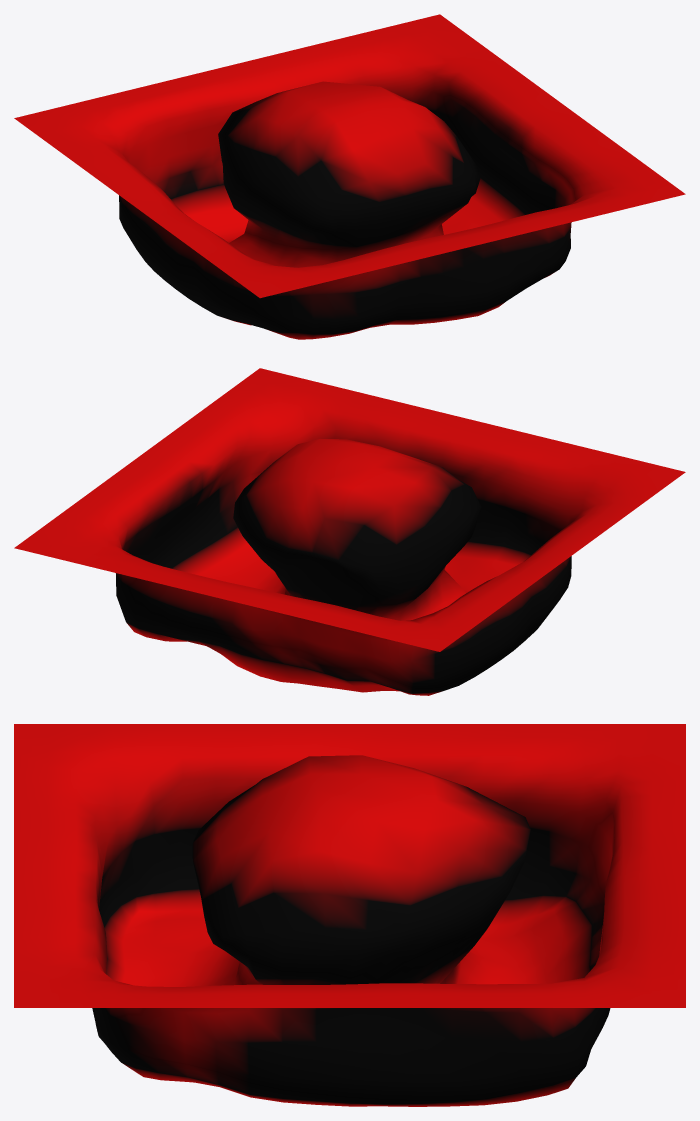
The model's file is GroundBottom01E 2M Foreground.fbx.
3 renders of one model, top to bottom at view 1: azimuth 30°, elevation 25°; view 2: azimuth 150°, elevation 25°; view 3: azimuth 270°, elevation 25°, orthographic. The views are drawn at different scales.
Visible parts, largest first — view 1: GroundBottom01E 2M Foreground; view 2: GroundBottom01E 2M Foreground; view 3: GroundBottom01E 2M Foreground.
Boxes of the visible parts, box(x1,y1,x2,y2) form: GroundBottom01E 2M Foreground: box(14, 14, 685, 339); GroundBottom01E 2M Foreground: box(14, 368, 685, 695); GroundBottom01E 2M Foreground: box(14, 724, 685, 1106).
Size of the model in its own units: 4 by 1.61 by 4.
